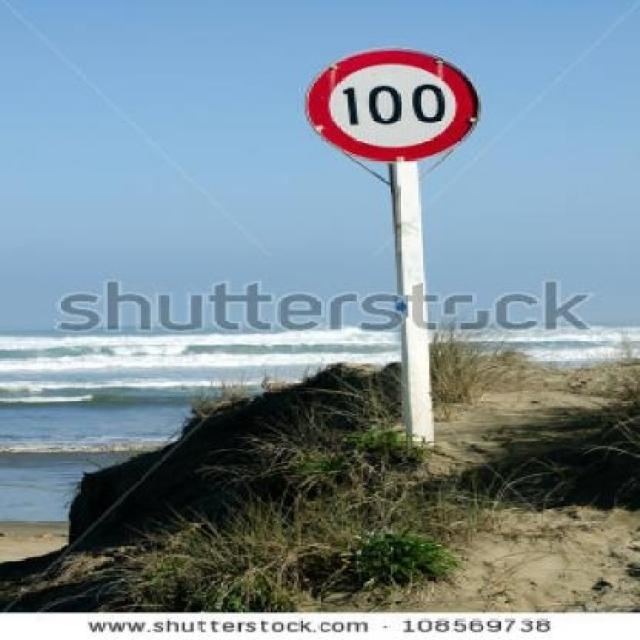forb_speed_over_100: (300, 48, 477, 163)
